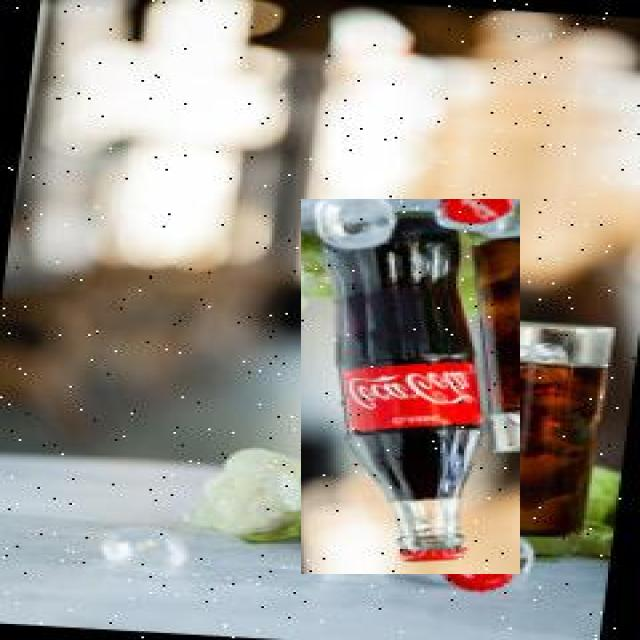coca-cola: (301, 199, 520, 574)
